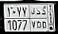0: (12, 8, 18, 31)
1: (6, 6, 12, 32)
7: (22, 6, 29, 31), (17, 7, 23, 30)
D: (36, 8, 42, 29), (42, 8, 47, 29)
V: (30, 6, 36, 29)
